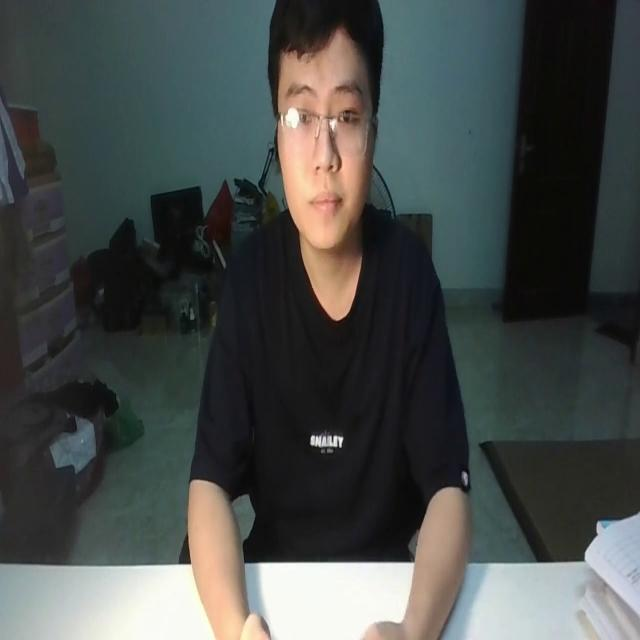student: (183, 0, 471, 640)
